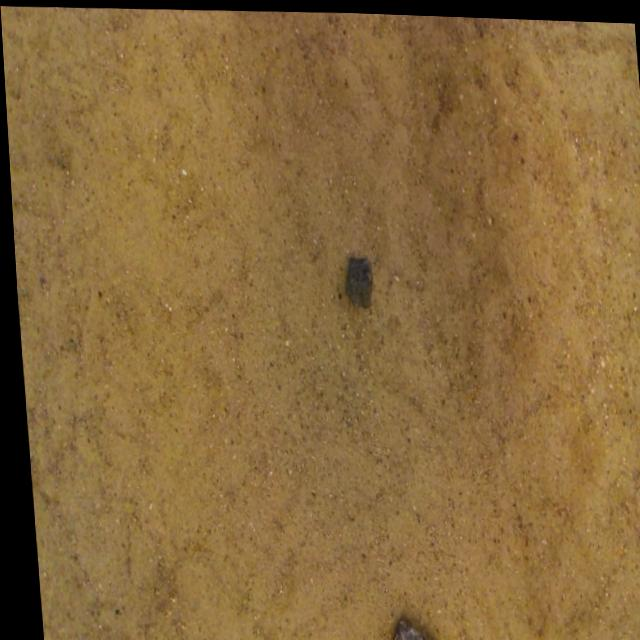rock: (342, 256, 368, 305), (386, 618, 421, 640)
